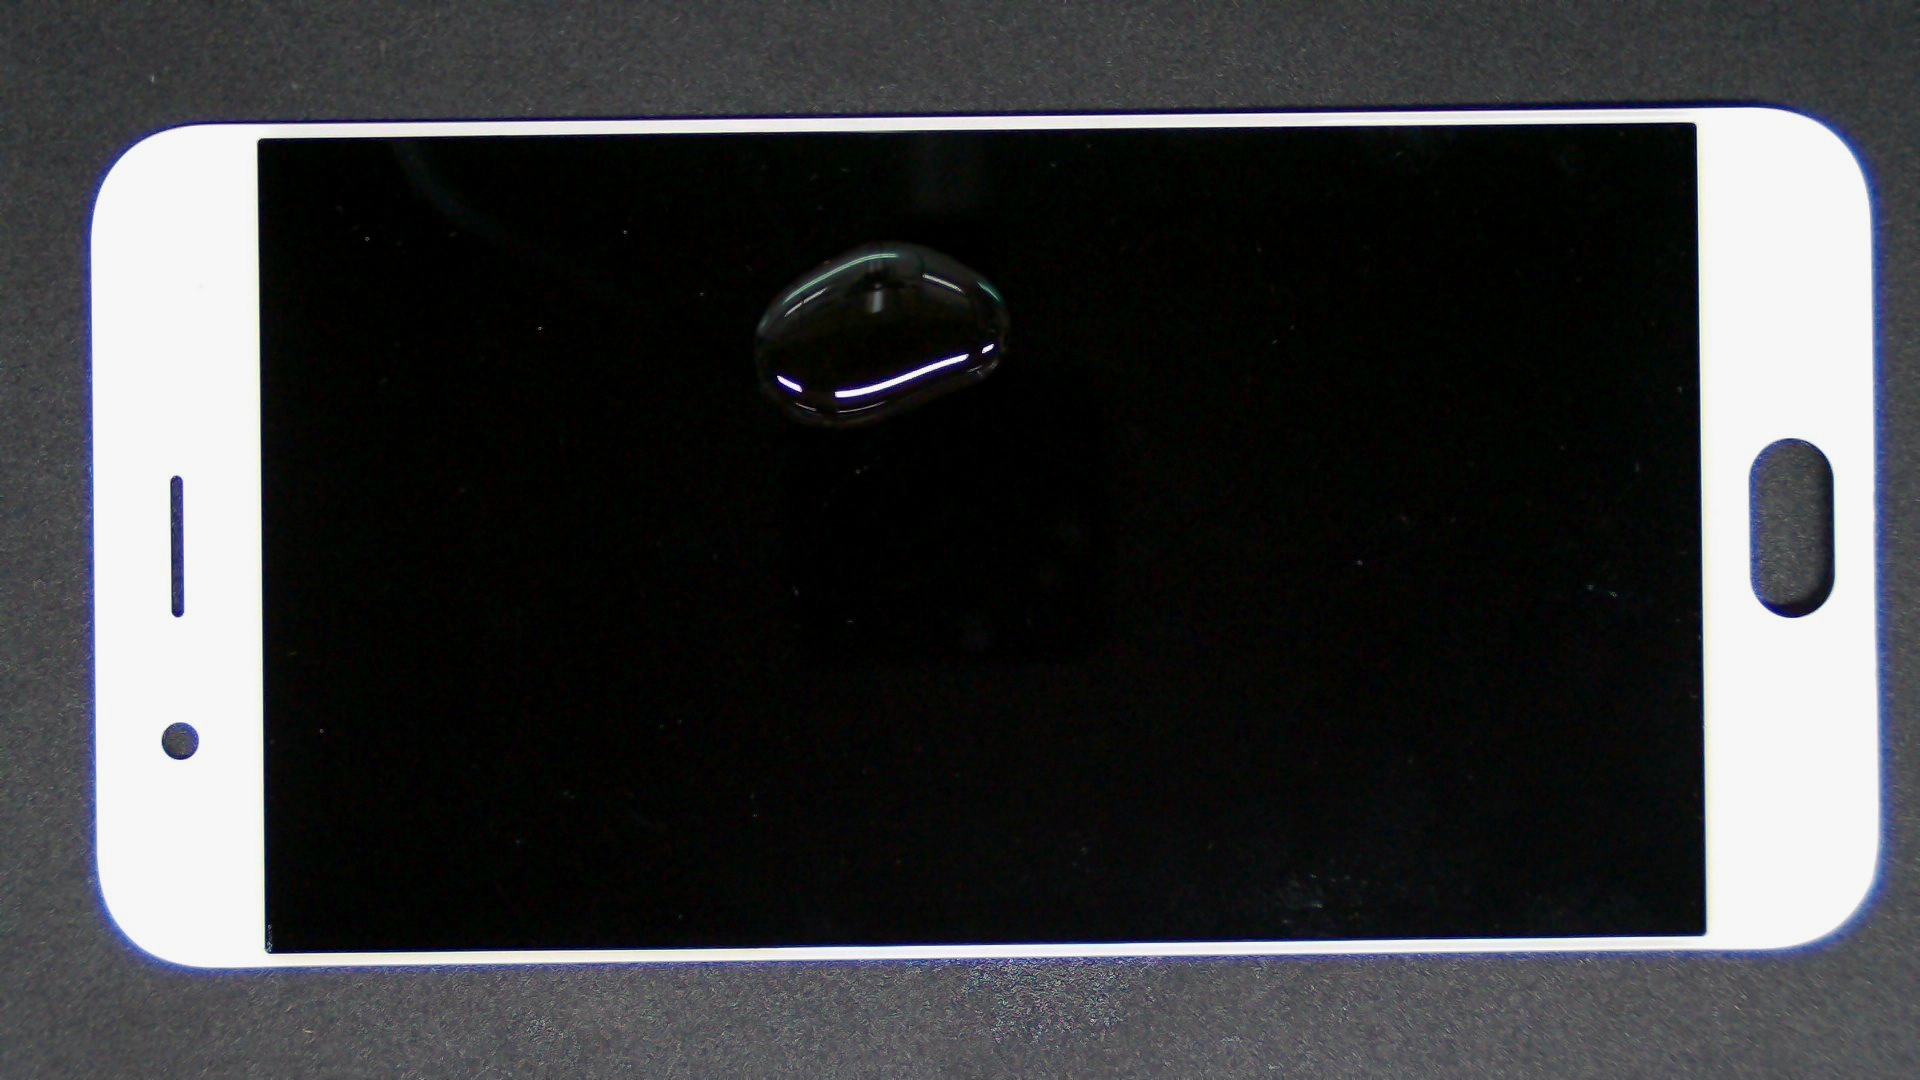oil: (443, 120, 1327, 360)
